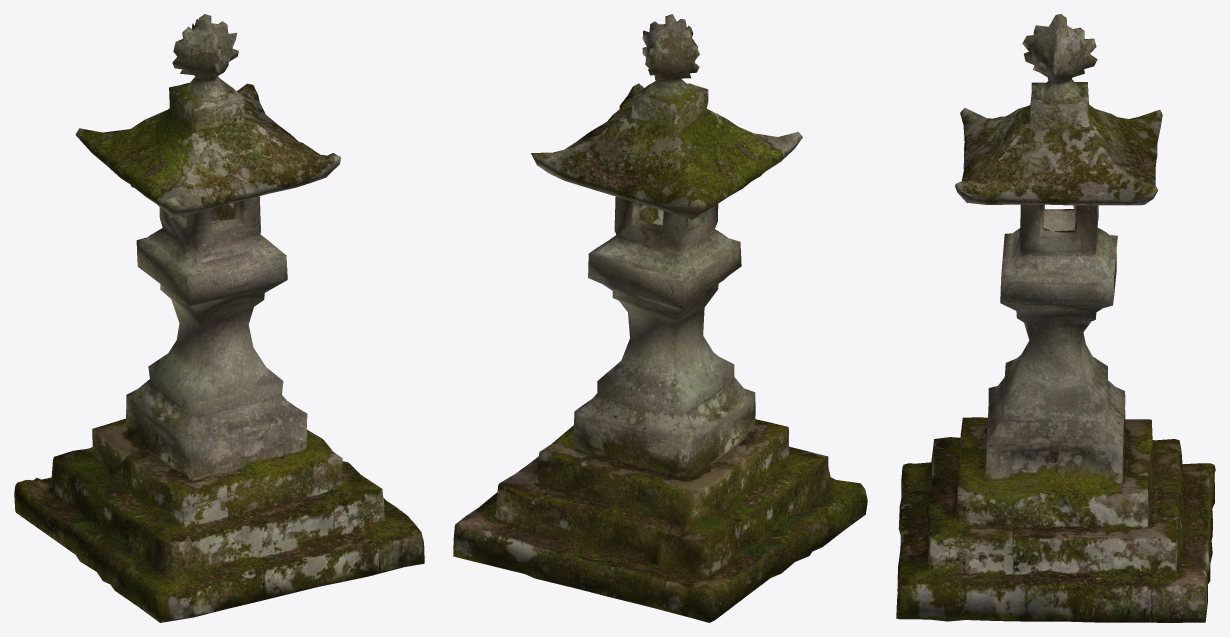
The model's file is stone_lantern.glb.
The picture shows the model from 3 angles, left to right: view 1: azimuth 30°, elevation 25°; view 2: azimuth 150°, elevation 25°; view 3: azimuth 270°, elevation 25°; orthographic projection. The views are drawn at different scales.
Visible parts, largest first — view 1: ufnscjdga_LOD0_TIER3_000_MatID_1_0; view 2: ufnscjdga_LOD0_TIER3_000_MatID_1_0; view 3: ufnscjdga_LOD0_TIER3_000_MatID_1_0.
Boxes of the visible parts, left/top/right/bottom form: ufnscjdga_LOD0_TIER3_000_MatID_1_0: left=14, top=14, right=424, bottom=622; ufnscjdga_LOD0_TIER3_000_MatID_1_0: left=453, top=14, right=867, bottom=622; ufnscjdga_LOD0_TIER3_000_MatID_1_0: left=896, top=14, right=1215, bottom=622.
Size of the model in its own units: 2.1 by 3.87 by 2.09.
Materials: 1 (1 with a texture image).
